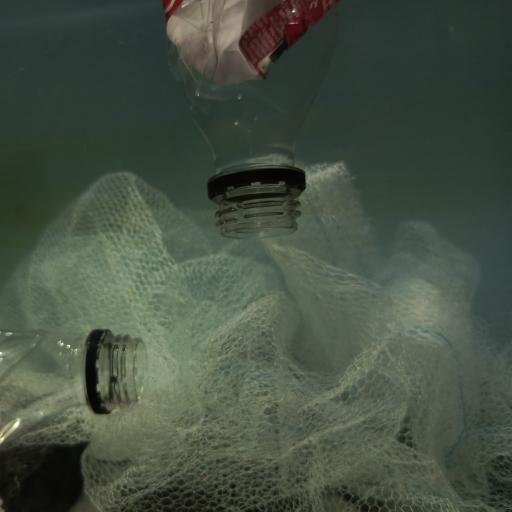net: (0, 159, 512, 512)
plastic_bottle: (161, 0, 339, 238), (0, 328, 147, 442)
